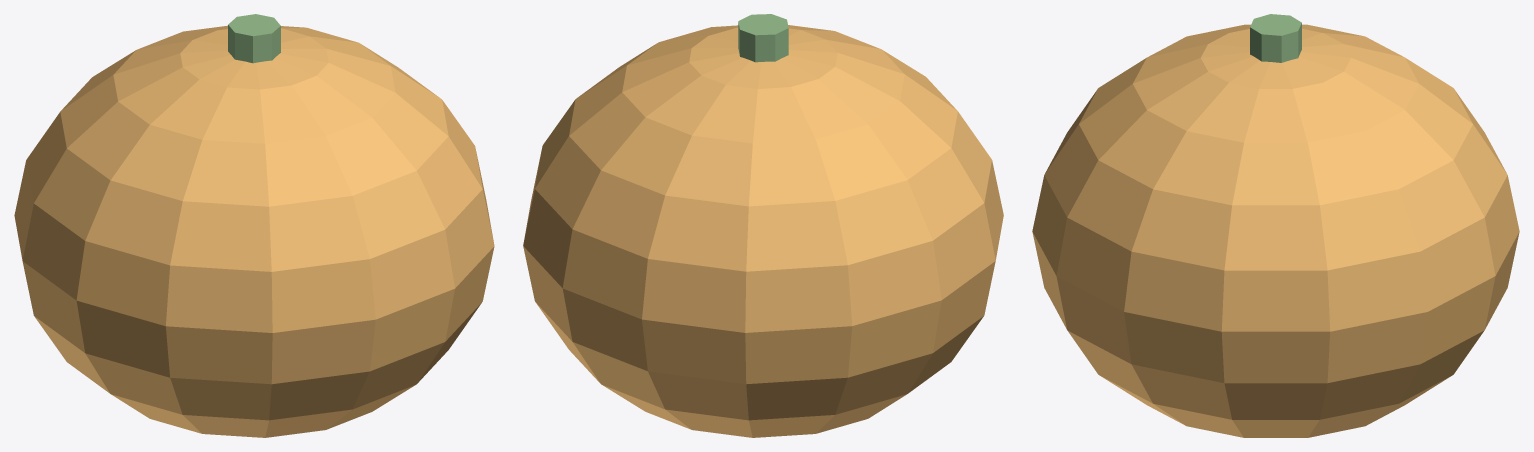
The model's file is pumpkin.glb.
3 views of the same model, side by side, from view 1: azimuth 30°, elevation 25°; view 2: azimuth 150°, elevation 25°; view 3: azimuth 270°, elevation 25° (orthographic).
Visible parts, largest first — view 1: Pumpkin_Body, Pumpkin_Stem; view 2: Pumpkin_Body, Pumpkin_Stem; view 3: Pumpkin_Body, Pumpkin_Stem.
Part boxes in pixels (x1,y1,x2,y2): Pumpkin_Body: [14, 25, 494, 437]; Pumpkin_Stem: [228, 14, 280, 63]; Pumpkin_Body: [523, 25, 1003, 437]; Pumpkin_Stem: [738, 14, 788, 62]; Pumpkin_Body: [1032, 24, 1519, 437]; Pumpkin_Stem: [1250, 14, 1301, 62].
Bounding box in the file's own units: 0.8969 × 0.81 × 0.92.
